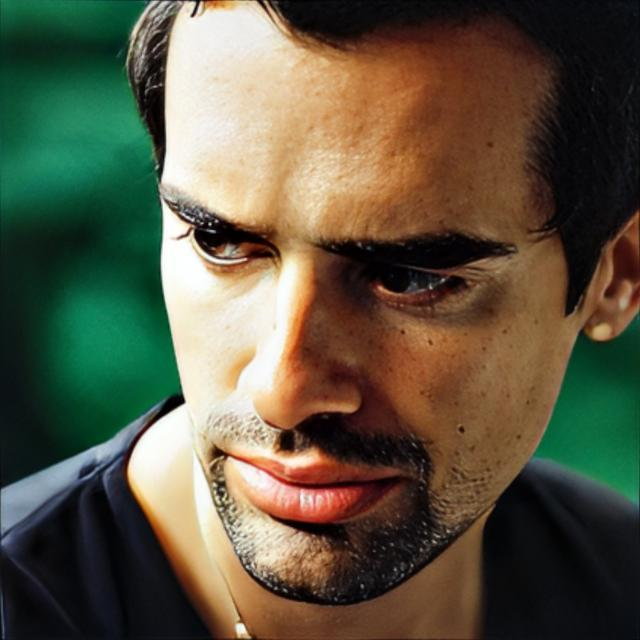anger: (158, 27, 578, 616)
